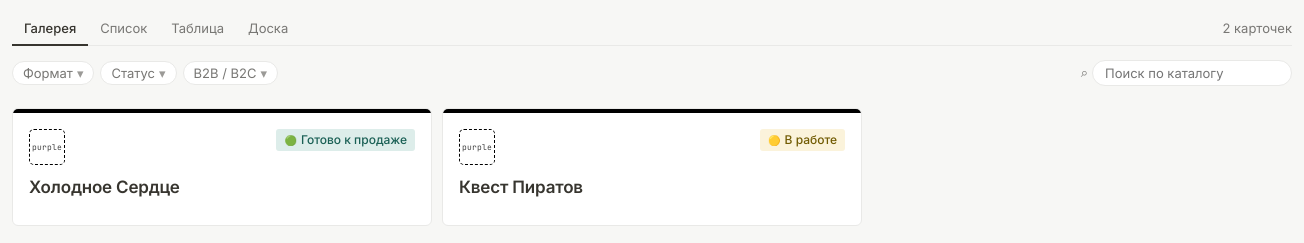
CatalogView › shows an empty state when nothing matches
Type "zzz" into the search field with placeholder "Поиск по каталогу". click: (1192, 73)
box: [1092,60,1292,86]
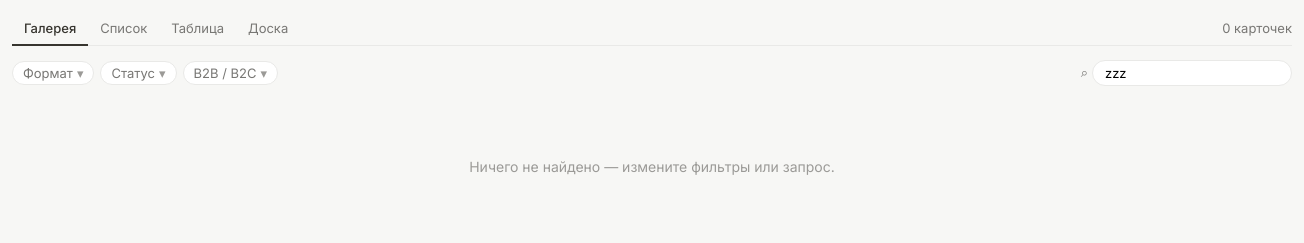
Result: the text "Ничего не найдено — измените фильтры или запрос." is shown at [469,158,835,175]
